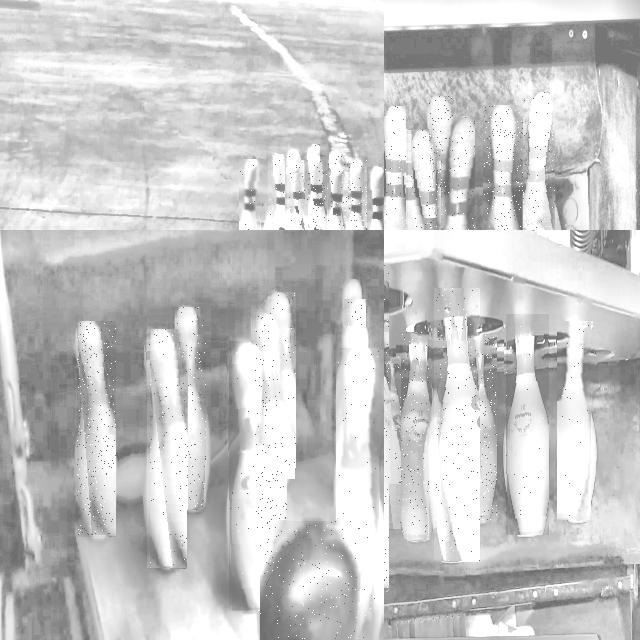bowling-ball: (260, 522, 360, 640)
bowling-pins: (229, 341, 275, 609), (337, 349, 378, 640), (436, 289, 479, 561), (506, 315, 549, 535), (149, 330, 186, 568), (77, 321, 116, 537), (255, 314, 286, 531), (399, 333, 429, 540), (560, 321, 590, 520), (176, 307, 205, 510), (468, 335, 497, 520), (270, 293, 295, 468), (485, 105, 518, 230), (524, 93, 553, 230), (444, 117, 475, 230), (429, 96, 453, 230), (410, 131, 438, 230), (384, 107, 406, 230), (384, 358, 398, 482), (347, 159, 367, 230), (308, 155, 326, 230), (240, 159, 258, 230), (325, 163, 343, 230), (270, 155, 284, 230), (289, 160, 304, 230), (370, 167, 384, 230), (347, 299, 366, 325), (288, 150, 301, 173), (329, 151, 343, 168), (298, 201, 305, 230), (310, 145, 320, 160), (306, 198, 310, 218), (329, 199, 332, 217)
